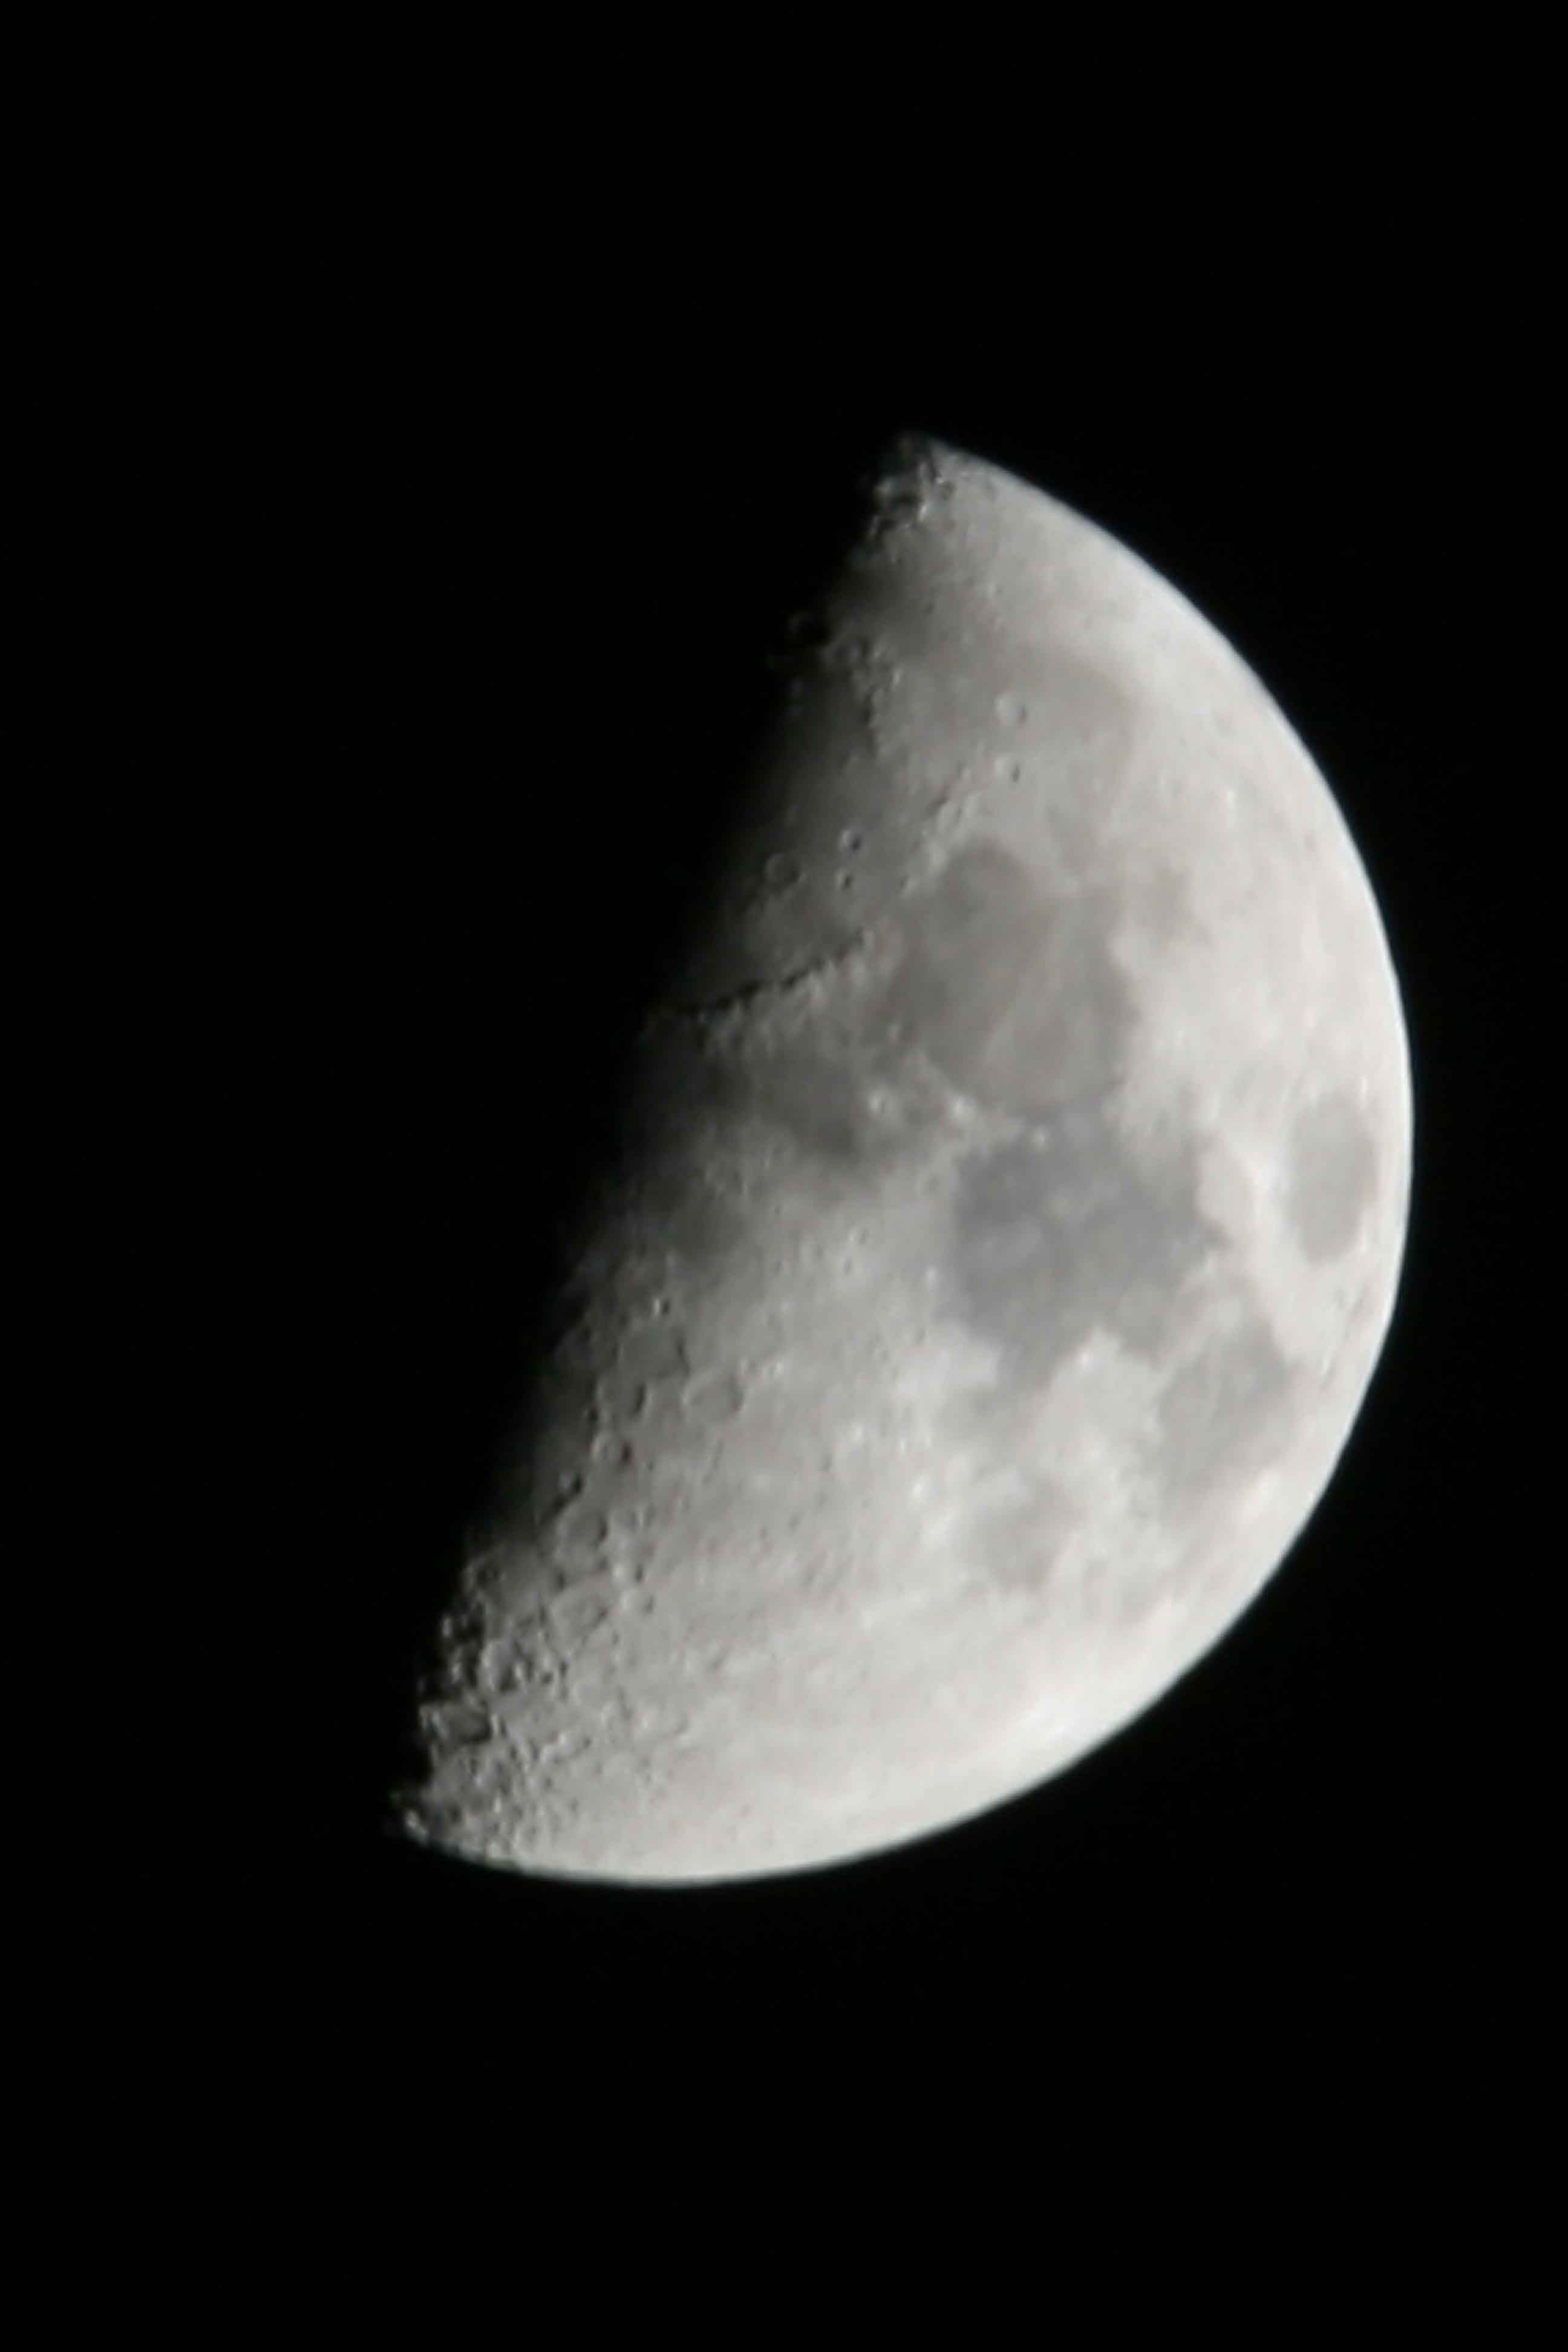crater: (950, 672, 1066, 735), (675, 1365, 761, 1442), (747, 830, 819, 917), (626, 1692, 716, 1748), (969, 740, 1048, 801), (1010, 1113, 1078, 1176), (810, 808, 894, 854), (583, 1431, 642, 1479)
